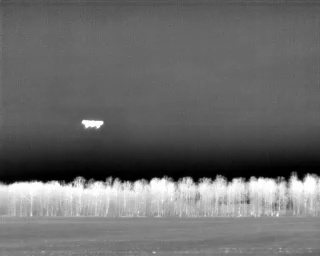DRONE: (77, 114, 107, 134)
